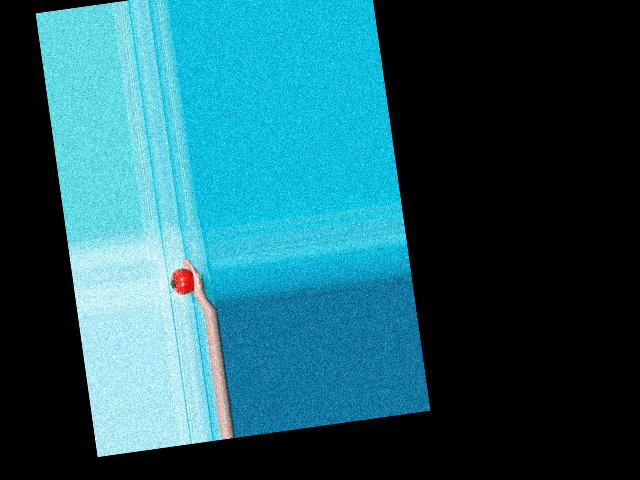tomato: (169, 266, 195, 295)
